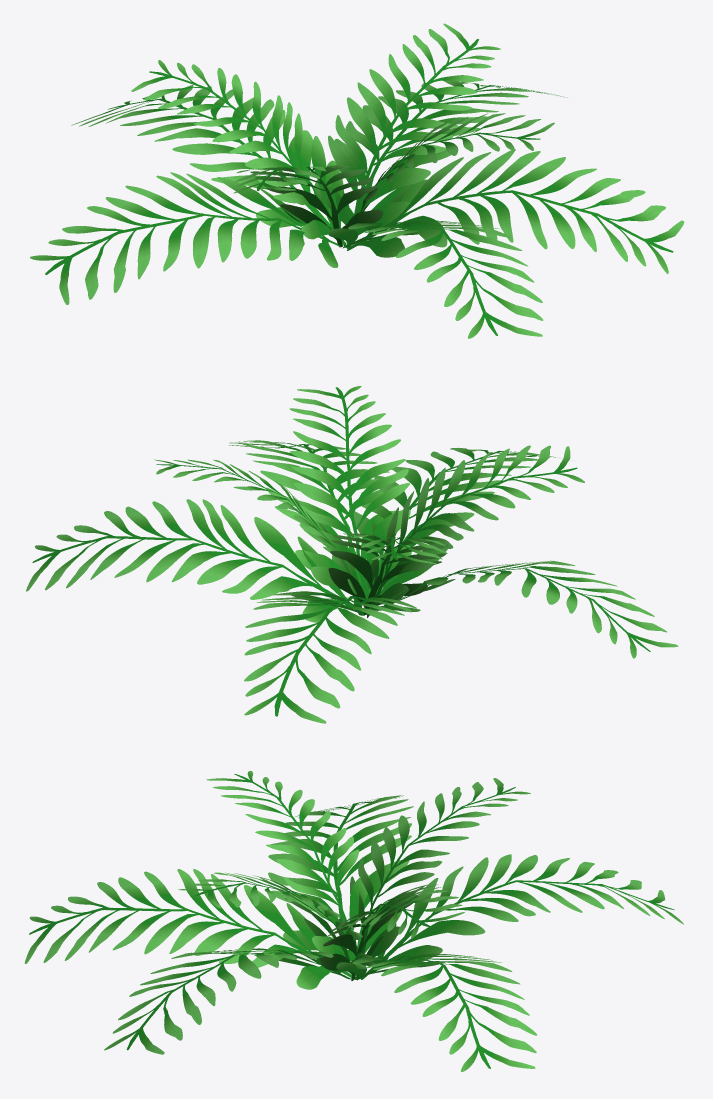
File: Plant_01.fbx
3 renders of one model, top to bottom at view 1: azimuth 30°, elevation 25°; view 2: azimuth 150°, elevation 25°; view 3: azimuth 270°, elevation 25°, orthographic. The views are drawn at different scales.
Visible parts, largest first — view 1: Plant 1; view 2: Plant 1; view 3: Plant 1.
Part boxes in pixels (x1,y1,x2,y2): Plant 1: (30, 23, 684, 338); Plant 1: (26, 386, 678, 723); Plant 1: (24, 771, 683, 1071).
Bounding box in the file's own units: 116 × 32.02 × 119.
